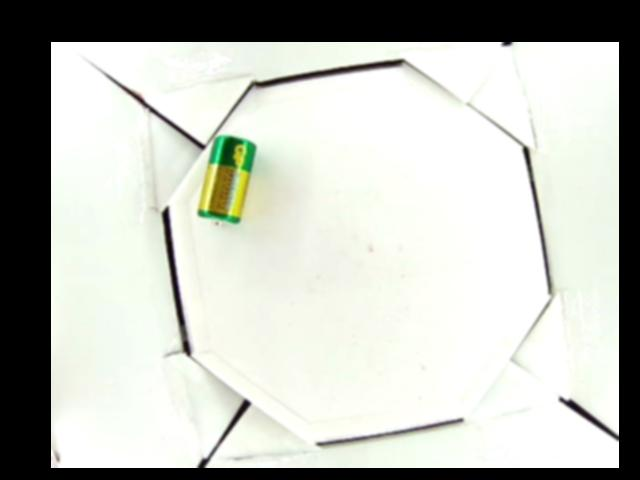Battery: (197, 135, 256, 228)
